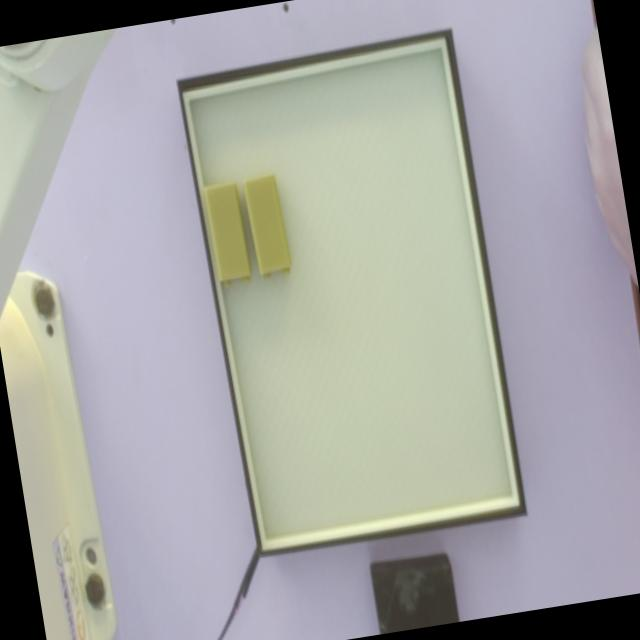bateria: (242, 173, 293, 280), (205, 181, 252, 288)
mesa: (177, 31, 528, 557)
